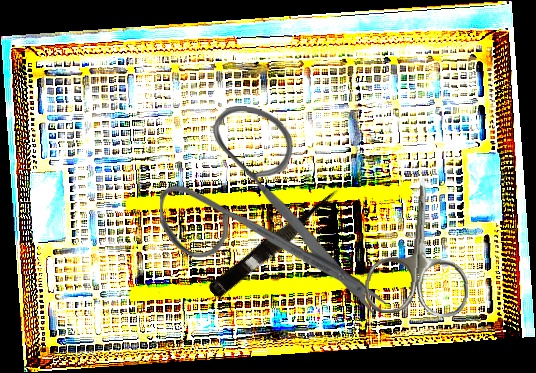Iris Scissors: (158, 105, 391, 317), (363, 174, 476, 319)
Micro Scissor: (206, 182, 348, 303)
